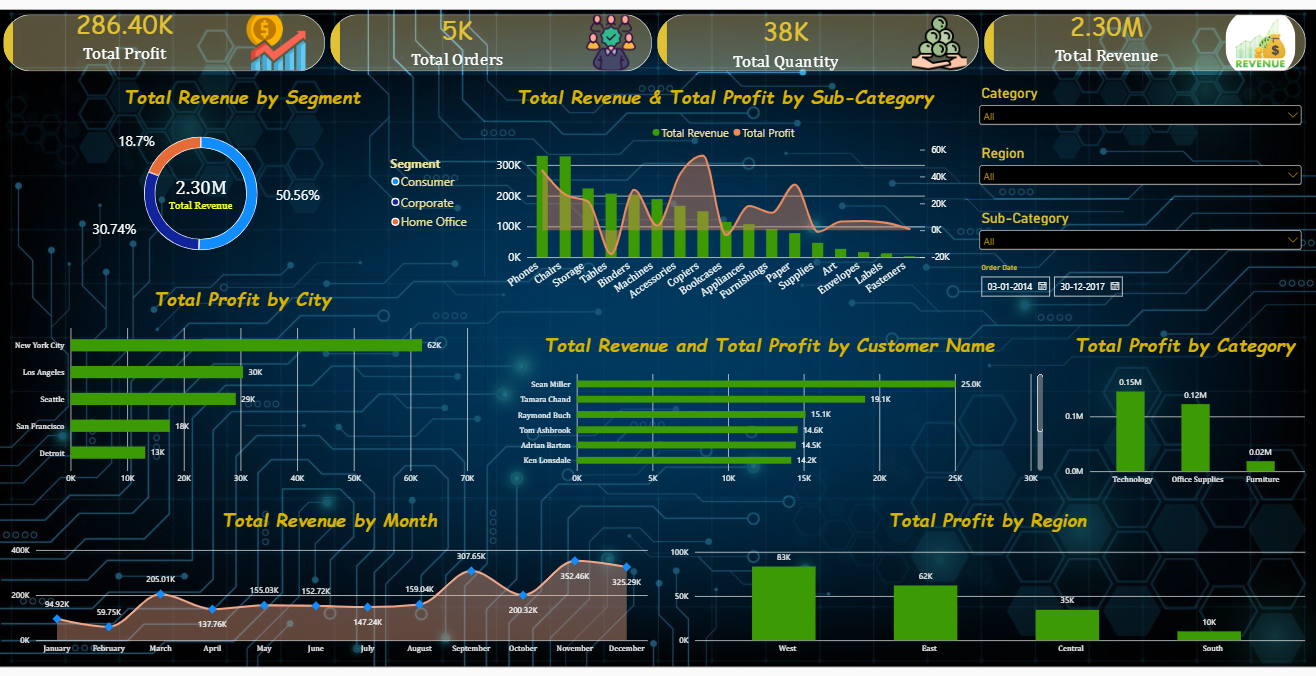

Layout of this report page (visuals, bound fields, positions):
{"tool":"powerbi","page":{"name":"DashBoard","canvas":[1920,1080],"ordinal":0},"visuals":[{"type":"cardVisual","fields":{"Data":["Data.Total Profit","Data.Total Orders","Data.Total Quantity","Data.Total Revenue"]},"box":[0,59.8,1912.7,93.4],"z":0},{"type":"donutChart","fields":{"Series":["Data.Segment"],"Y":["Data.Total Revenue"]},"box":[0,153.2,706.9,294.7],"z":1},{"type":"barChart","fields":{"Category":["Data.City"],"Y":["Data.Total Profit"]},"box":[0,447.9,707.6,322.4],"z":2},{"type":"lineStackedColumnComboChart","title":"Total Revenue & Total Profit by Sub-Category","fields":{"Category":["Data.Sub-Category"],"Y2":["Data.Total Profit"],"Y":["Data.Total Revenue"]},"box":[707.6,153.2,700.3,361.8],"z":3},{"type":"lineChart","fields":{"Category":["Data.Order Date.Variation.Date Hierarchy.Month"],"Y":["Data.Total Revenue"]},"box":[0,770.3,961.5,246.6],"z":4},{"type":"clusteredBarChart","fields":{"Category":["Data.Customer Name"],"Y":["Data.Total Revenue"]},"box":[707.6,515,830.2,255.3],"z":5},{"type":"columnChart","fields":{"Category":["Data.Region"],"Y":["Data.Total Profit"]},"box":[961.5,770.3,958.5,246.6],"z":6},{"type":"columnChart","fields":{"Category":["Data.Category"],"Y":["Data.Total Profit"]},"box":[1537.8,515,382.2,255.3],"z":7},{"type":"slicer","fields":{"Values":["Data.Order Date"]},"box":[1407.9,414.3,512.1,100.7],"z":8},{"type":"slicer","fields":{"Values":["Data.Sub-Category"]},"box":[1407.9,335.6,512.1,78.8],"z":9},{"type":"slicer","fields":{"Values":["Data.Region"]},"box":[1407.9,240.7,512.1,93.4],"z":10},{"type":"slicer","fields":{"Values":["Data.Category"]},"box":[1407.9,153.2,512.1,87.5],"z":11}]}

Visuals, with their boxes on the page's 1920x1080 design canvas (x1, y1, x2, y2). These are canvas units, not pixel positions in the 1316x676 screenshot, which may show the page scaled, cropped or inside an application window:
cardVisual - Data.Total Profit x Data.Total Orders: [x1=0, y1=60, x2=1913, y2=153]
donutChart - Data.Segment x Data.Total Revenue: [x1=0, y1=153, x2=707, y2=448]
barChart - Data.City x Data.Total Profit: [x1=0, y1=448, x2=708, y2=770]
"Total Revenue & Total Profit by Sub-Category" lineStackedColumnComboChart: [x1=708, y1=153, x2=1408, y2=515]
lineChart - Data.Order Date.Variation.Date Hierarchy.Month x Data.Total Revenue: [x1=0, y1=770, x2=962, y2=1017]
clusteredBarChart - Data.Customer Name x Data.Total Revenue: [x1=708, y1=515, x2=1538, y2=770]
columnChart - Data.Region x Data.Total Profit: [x1=962, y1=770, x2=1920, y2=1017]
columnChart - Data.Category x Data.Total Profit: [x1=1538, y1=515, x2=1920, y2=770]
slicer - Data.Order Date: [x1=1408, y1=414, x2=1920, y2=515]
slicer - Data.Sub-Category: [x1=1408, y1=336, x2=1920, y2=414]
slicer - Data.Region: [x1=1408, y1=241, x2=1920, y2=334]
slicer - Data.Category: [x1=1408, y1=153, x2=1920, y2=241]
